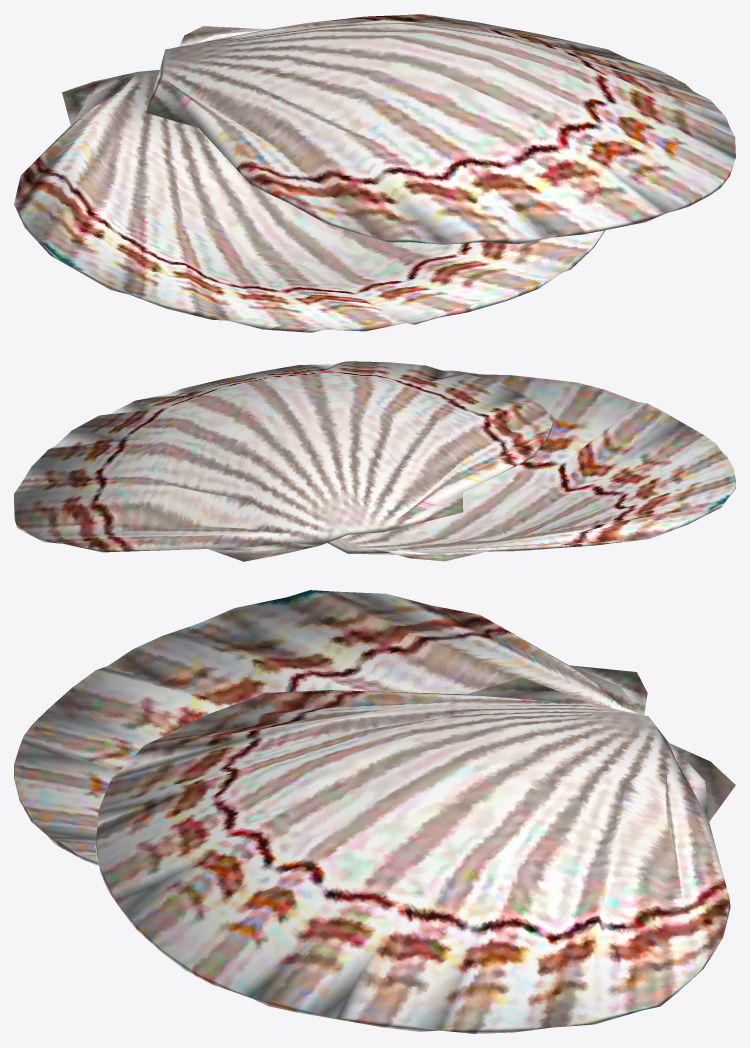
The model's file is Shell_fbx.fbx.
The picture shows the model from 3 angles, top to bottom: view 1: azimuth 30°, elevation 25°; view 2: azimuth 150°, elevation 25°; view 3: azimuth 270°, elevation 25°; orthographic projection. The views are drawn at different scales.
Visible parts, largest first — view 1: shell_upper.002; view 2: shell_upper.002; view 3: shell_upper.002.
Part boxes in pixels (left/top/right/bottom): shell_upper.002: left=14, top=14, right=735, bottom=332; shell_upper.002: left=14, top=361, right=735, bottom=561; shell_upper.002: left=14, top=590, right=735, bottom=1033.
Bounding box in the file's own units: 209 × 39.31 × 170.
1 material, 1 textured.
